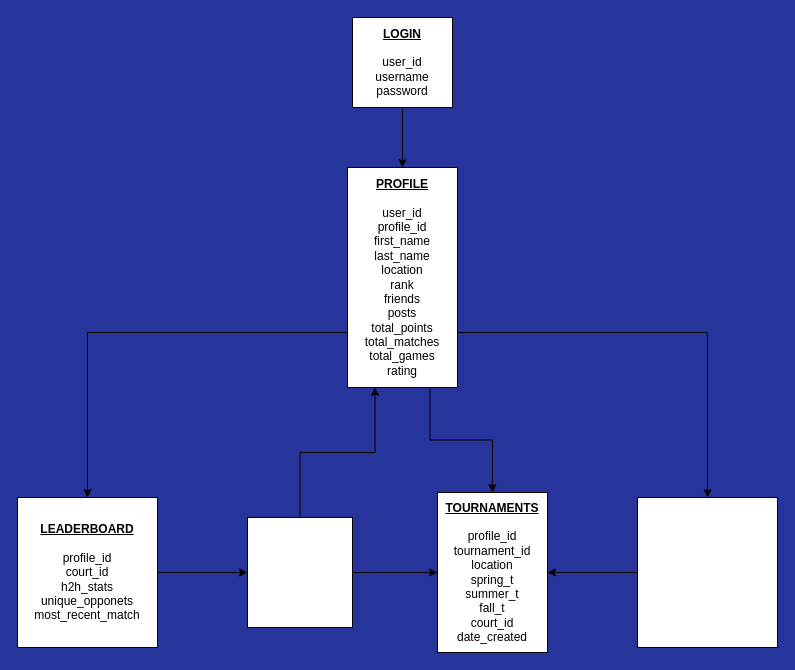
Some shapes in this 795 by 670 pixel diagram are drawn without their labels. Here are the shapes that lost their labels. From the top down, the centre of each, then its label:
the point at 299,572: HOME posts profile_id tournament_id pp_id
the point at 707,572: PICKLER_POINTER profile_id friends posts court_id court_location
